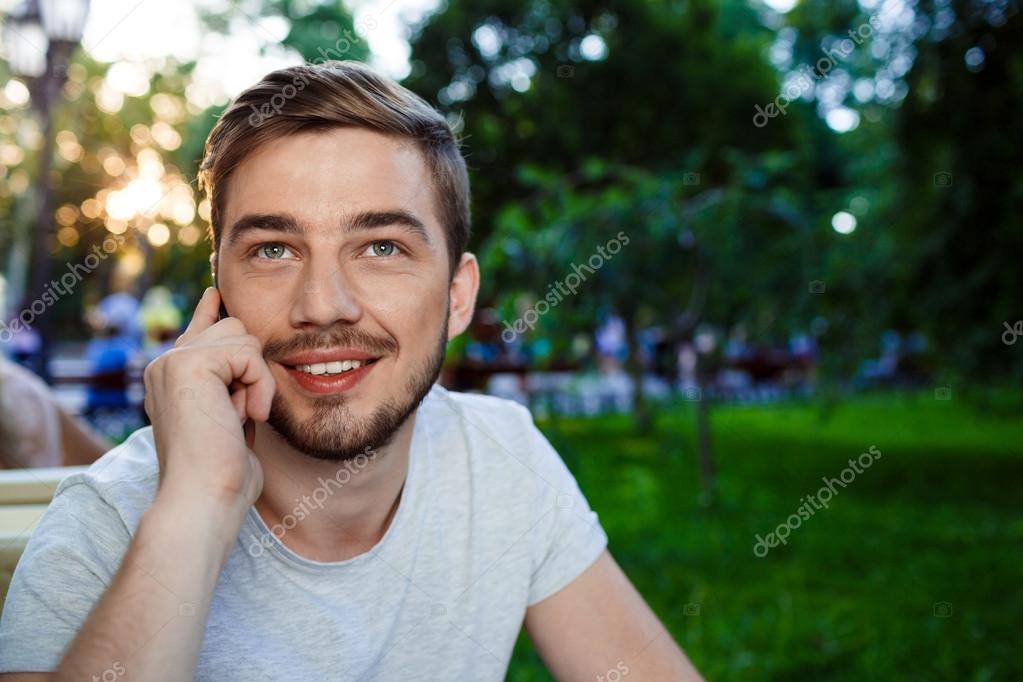phone: (206, 291, 272, 448)
talk: (140, 201, 445, 516)
